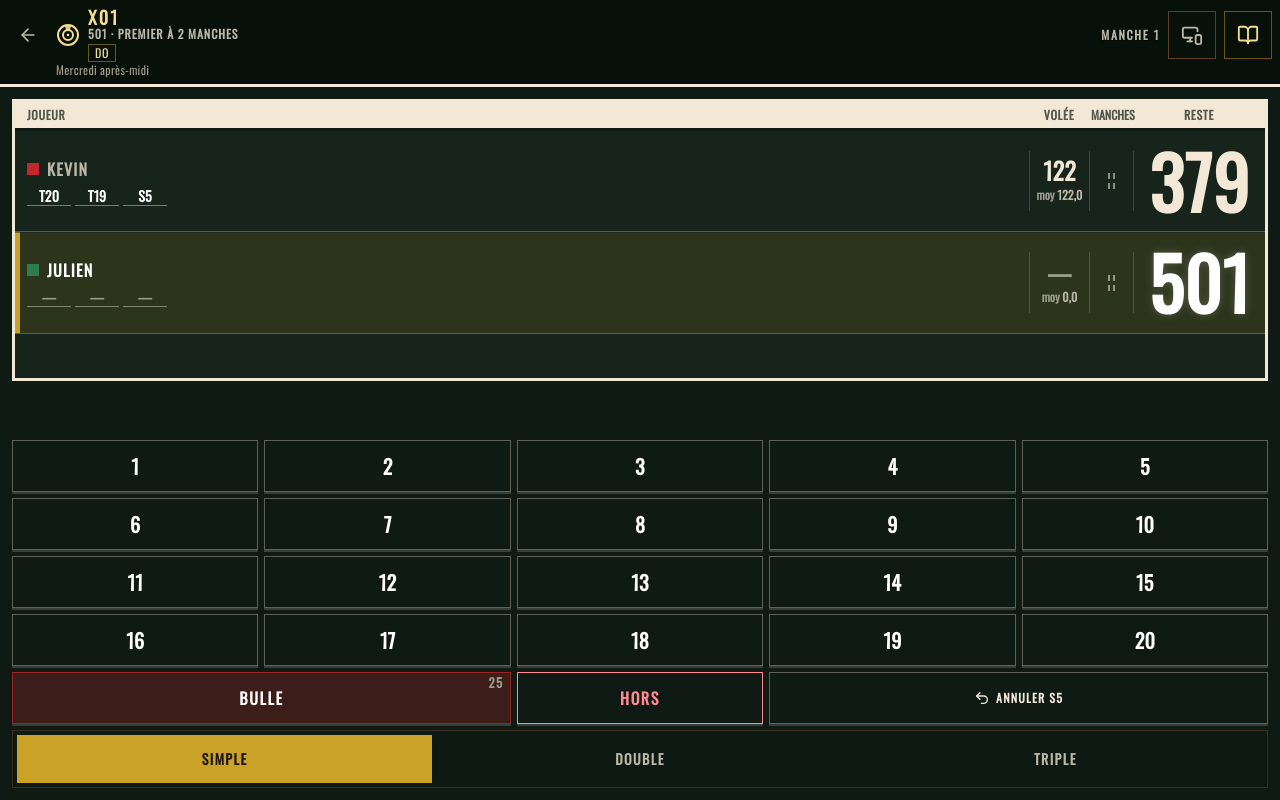
Test case: La touche Annuler, une fléchette par appui (X01) › T20·T19·S5 puis trois appuis : 384, 441, 501, Kevin actif, touche grisée
Expected: the element named "Score restant de Kevin" reads "379", [1149,127,1250,234]
Click the button with aria-label "Annuler S5 de Kevin" at {"x": 1019, "y": 698}, box [769,672,1268,724]
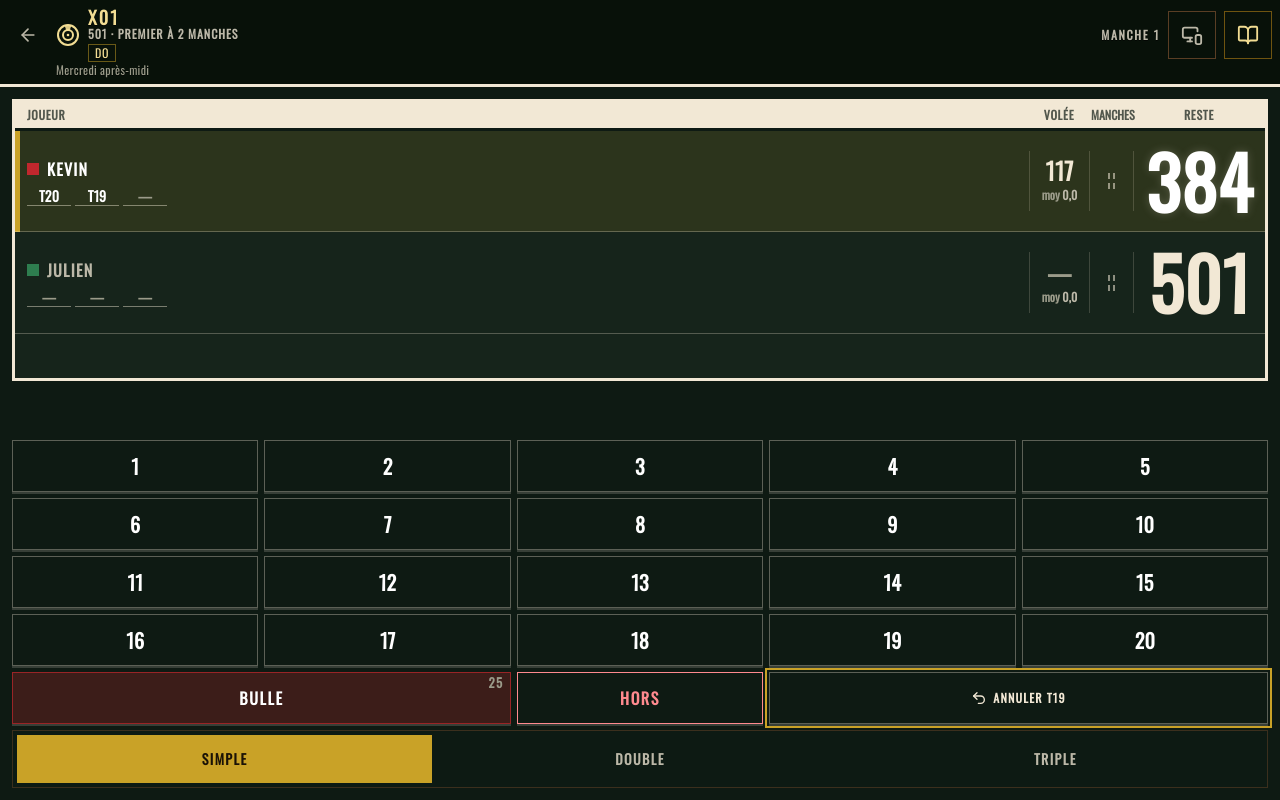
Result: the element named "Score restant de Kevin" reads "384" at [1146,127,1253,234]
Click the button "Annuler T19" at {"x": 1019, "y": 698}, box [769,672,1268,724]
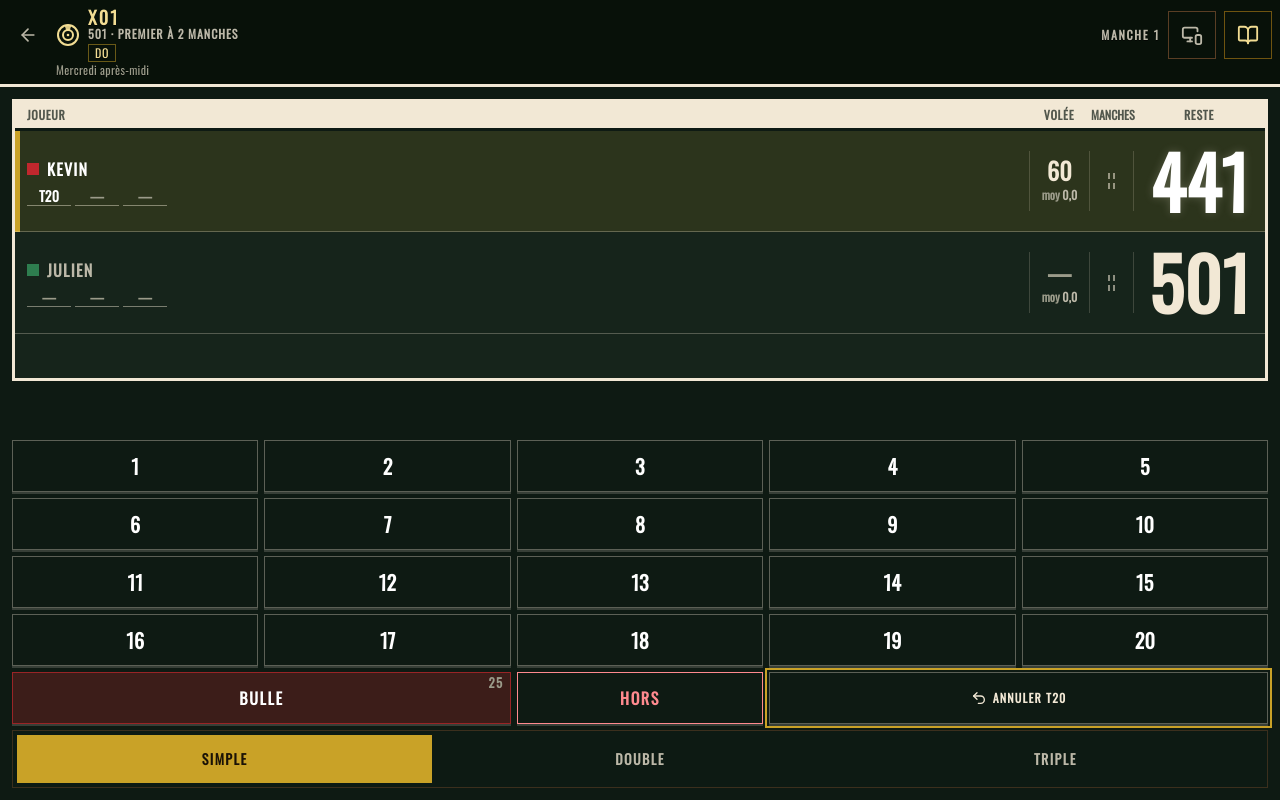
Result: the element named "Score restant de Kevin" reads "441" at [1150,127,1249,234]
Click the button "Annuler T20" at {"x": 1019, "y": 698}, box [769,672,1268,724]
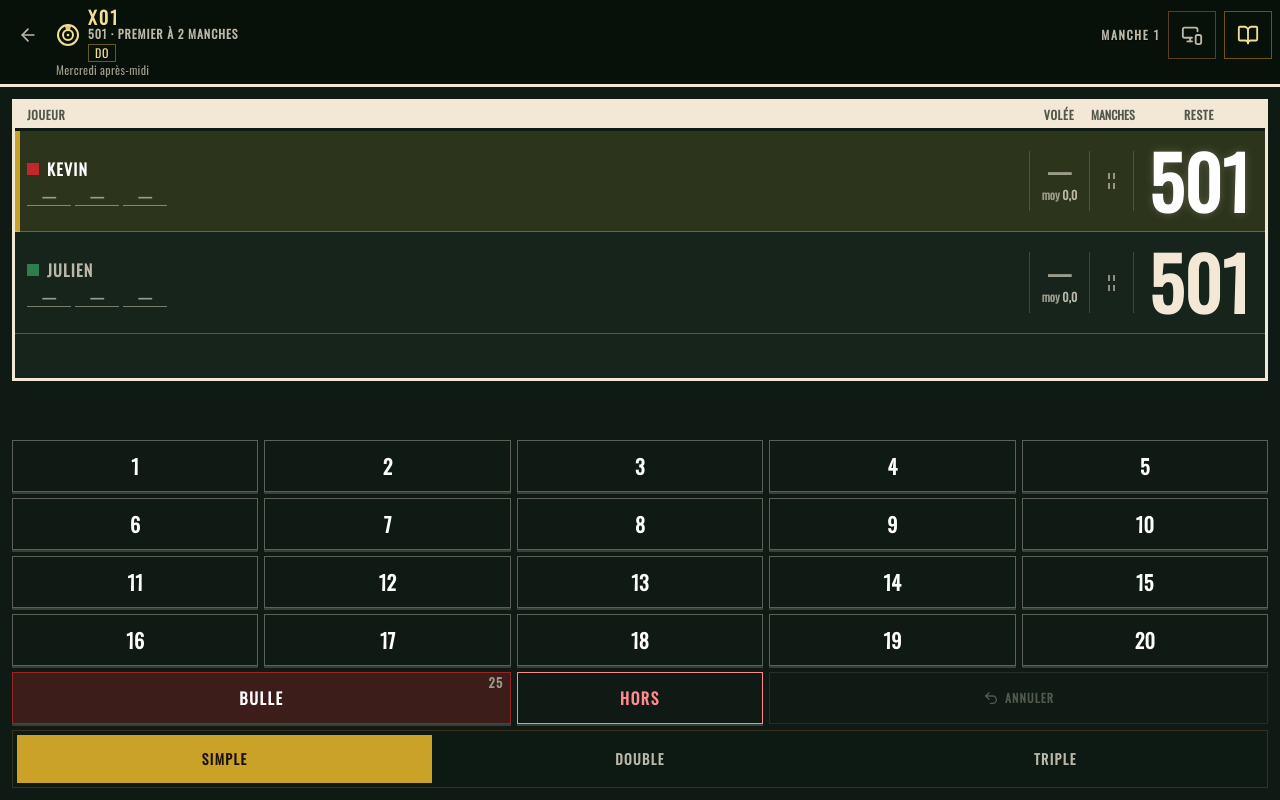
Result: the element named "Score restant de Kevin" reads "501" at [1149,127,1250,234]
Result: the button "Annuler" is disabled at [769,672,1268,724]
